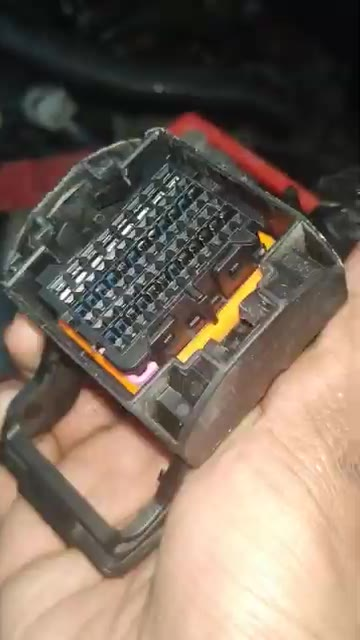connector: (3, 129, 348, 469)
